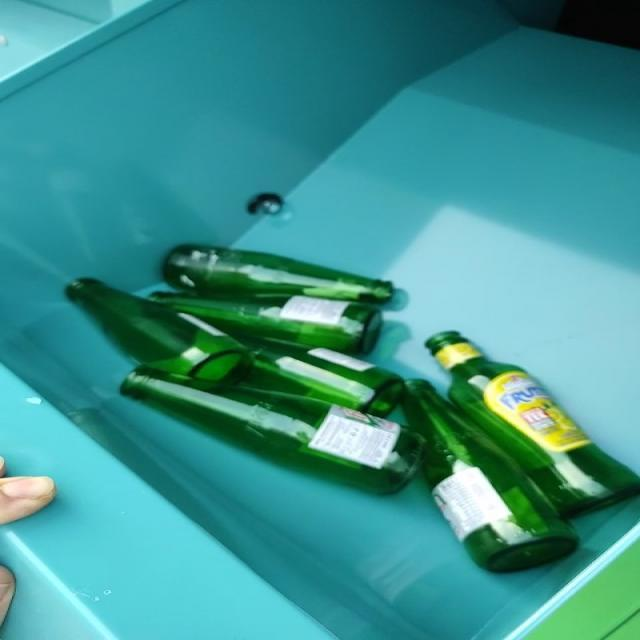Glass: (65, 245, 640, 573)
